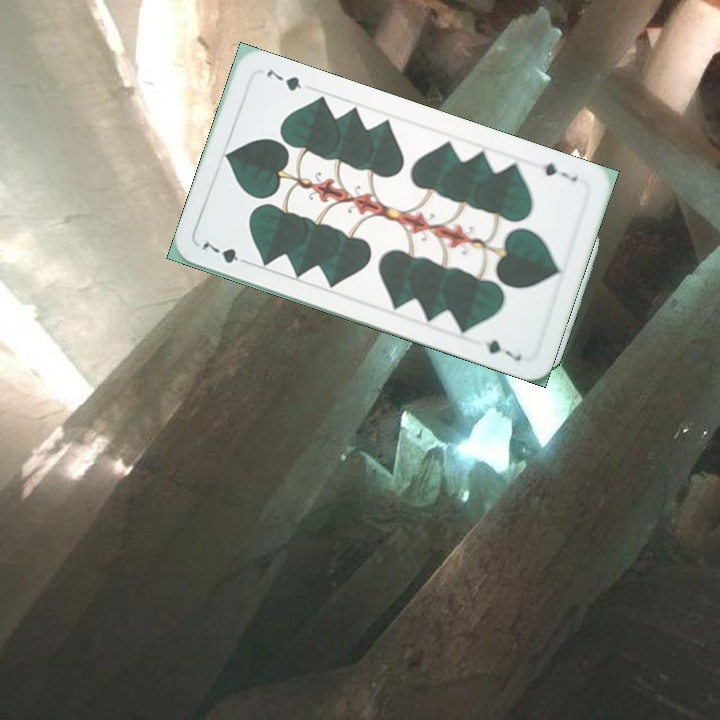G7: (198, 237, 254, 268), (539, 158, 581, 185)
